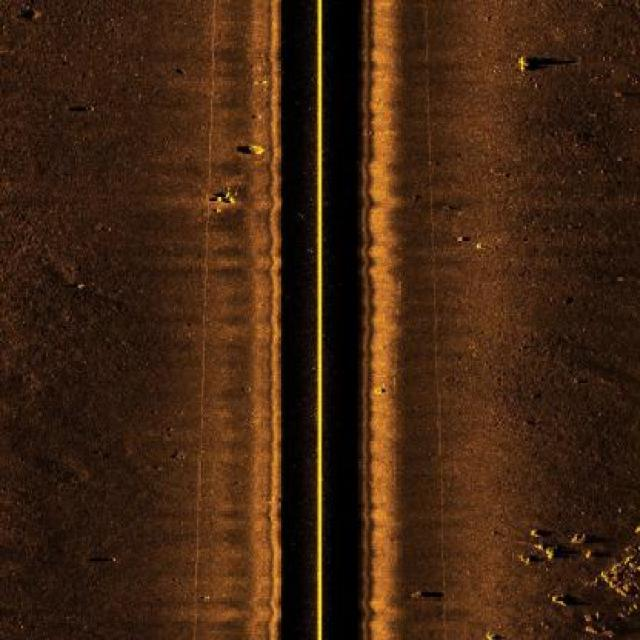mine: (238, 141, 267, 161)
other: (511, 58, 549, 72)
